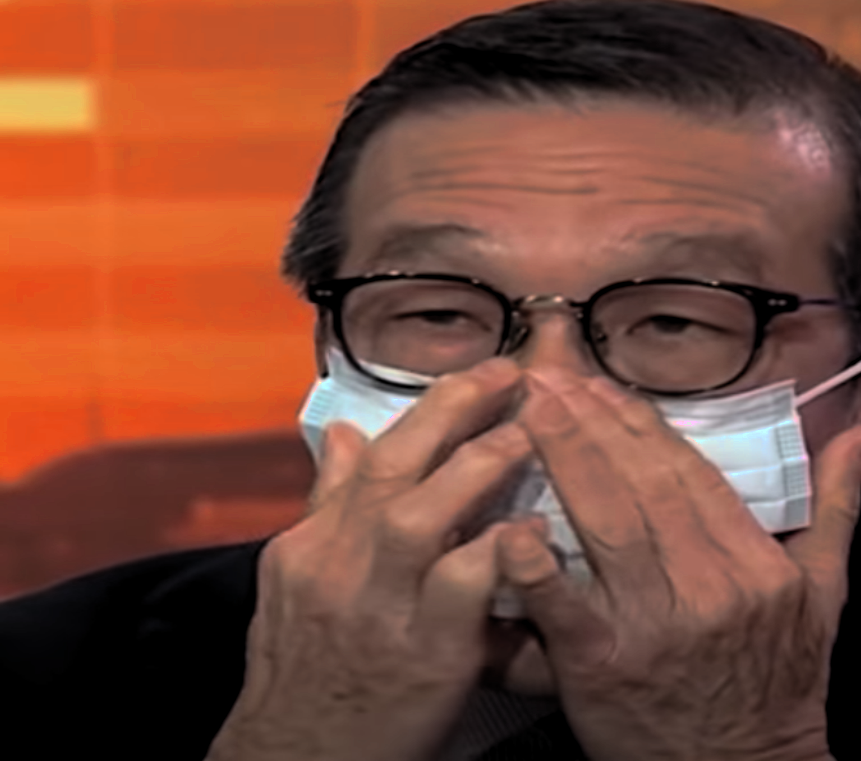mask_weared_incorrect: (298, 26, 860, 704)
